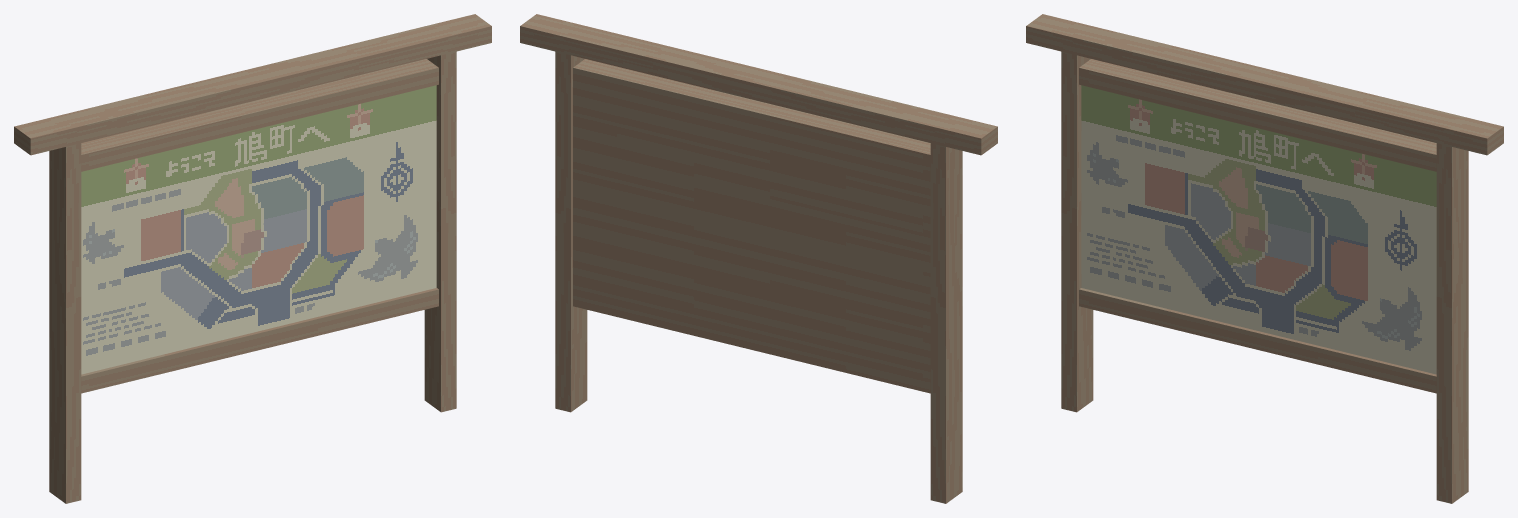
The model's file is 0124_Town_Map.glb.
3 renders of one model, left to right at view 1: azimuth 30°, elevation 25°; view 2: azimuth 150°, elevation 25°; view 3: azimuth 330°, elevation 25°, orthographic.
Parts seen in each view (by area): view 1: part_0; view 2: part_0; view 3: part_0.
Part boxes in pixels (<box>): part_0: <box>14,14,491,503</box>; part_0: <box>520,14,997,503</box>; part_0: <box>1026,14,1503,503</box>.
Size of the model in its own units: 2.84 by 2.2 by 0.1757.
Materials: 1 (1 with a texture image).
